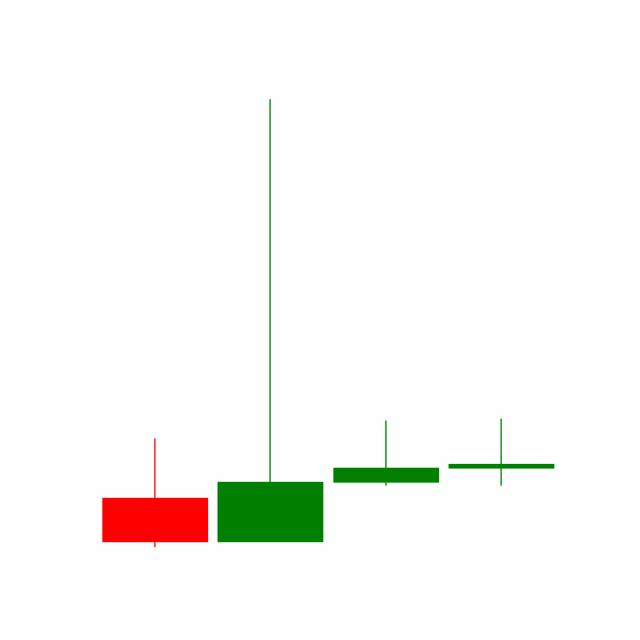Gravestone Doji: (443, 416, 559, 486)
